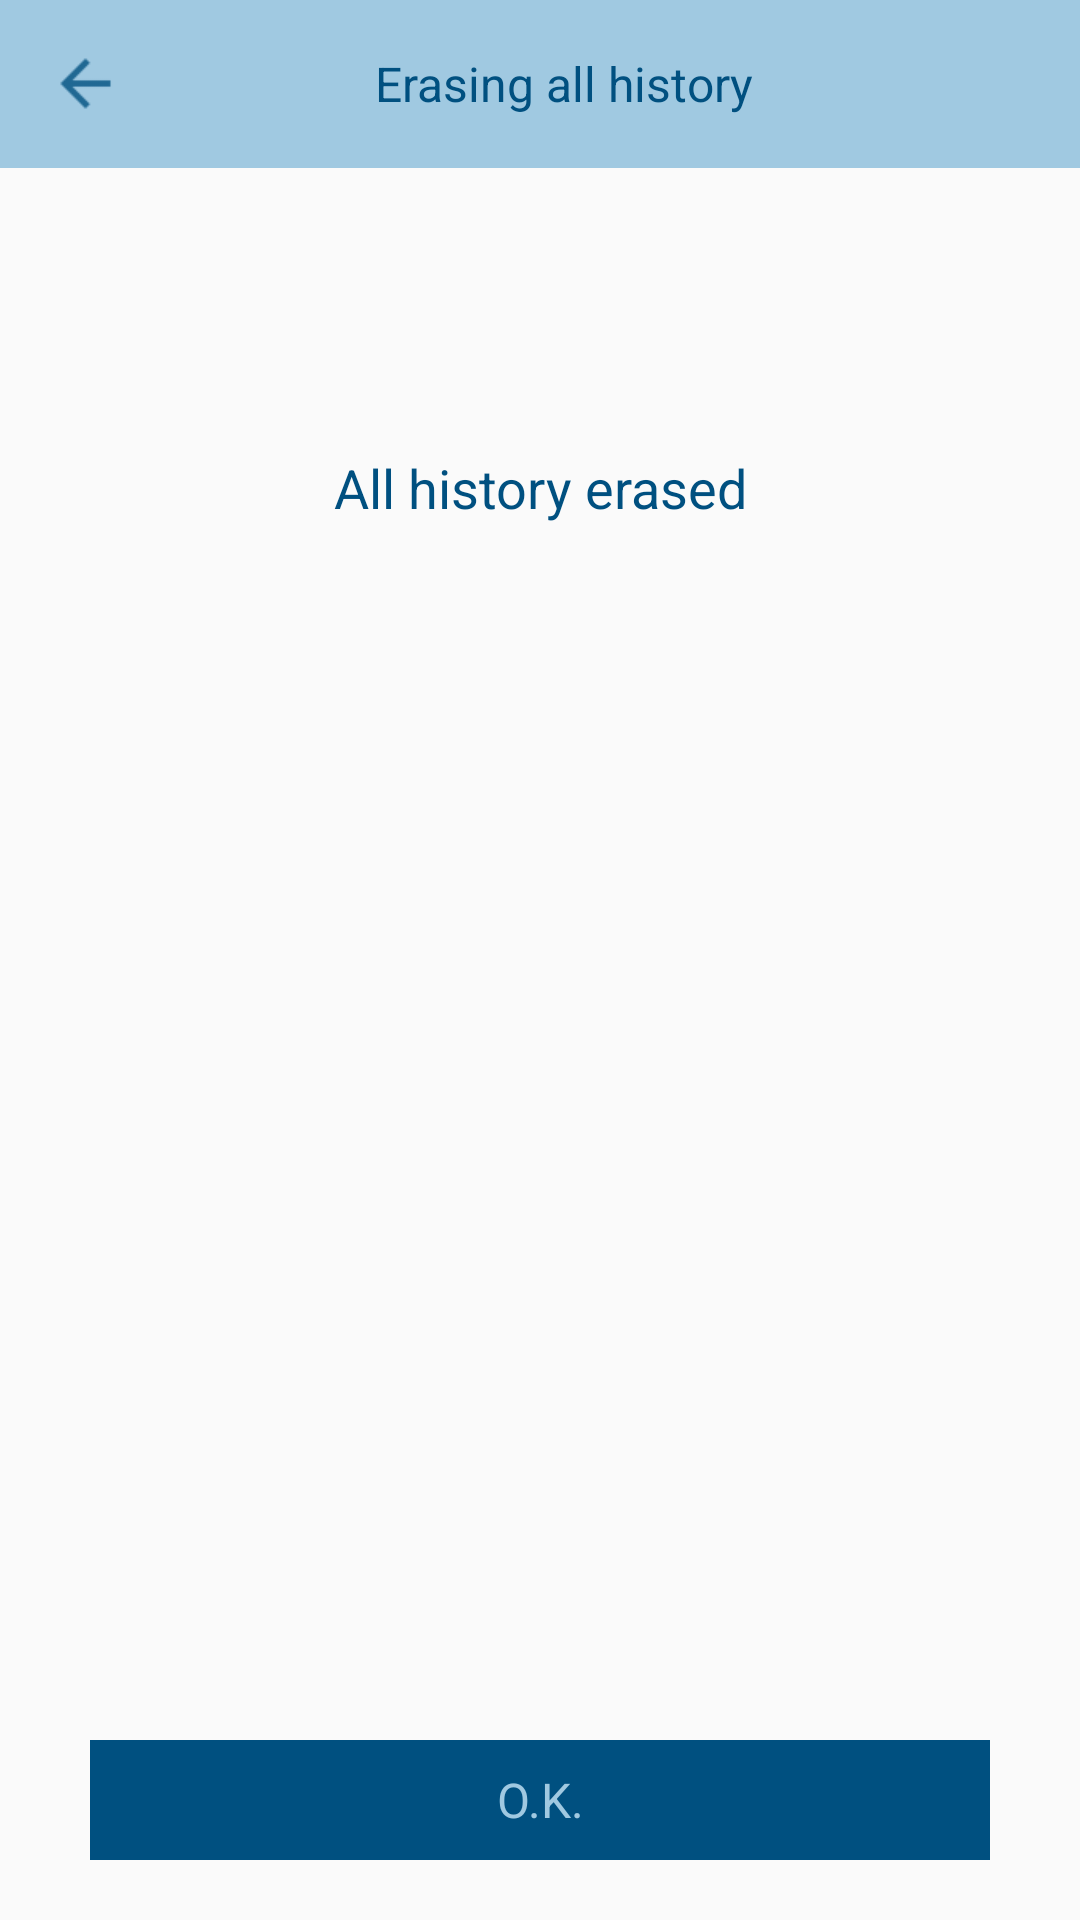

Where to tap for icons on this 1080*1920 app screen, as [x,y]:
arrow back: [85,83]
